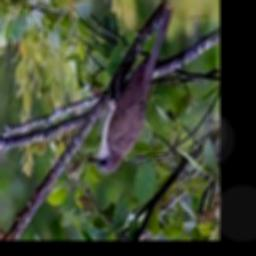Cuckoo: (89, 7, 173, 173)
